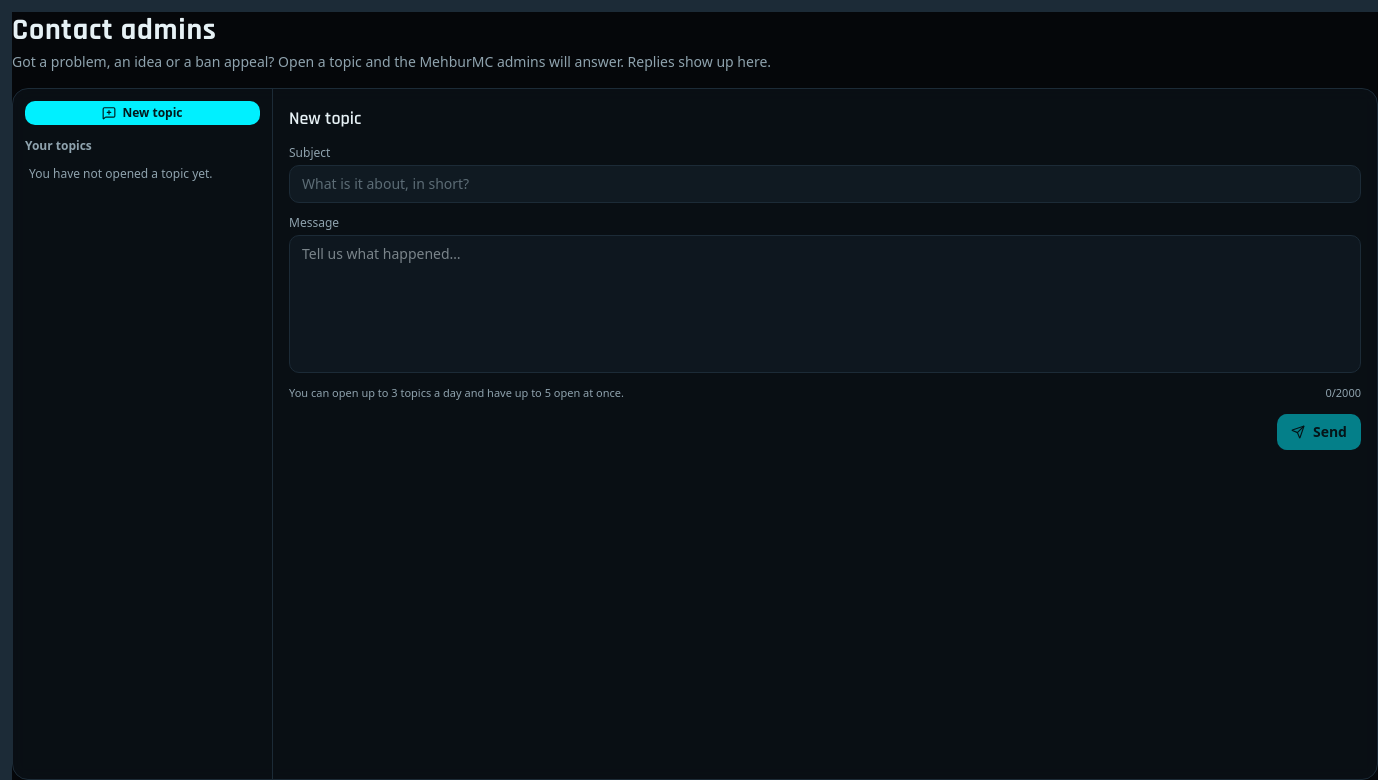
Scenario: Contact admins › shows server errors in plain words
In the field with placeholder "What is it about, in short?": (825, 184) [289,165,1361,203], type "Again"
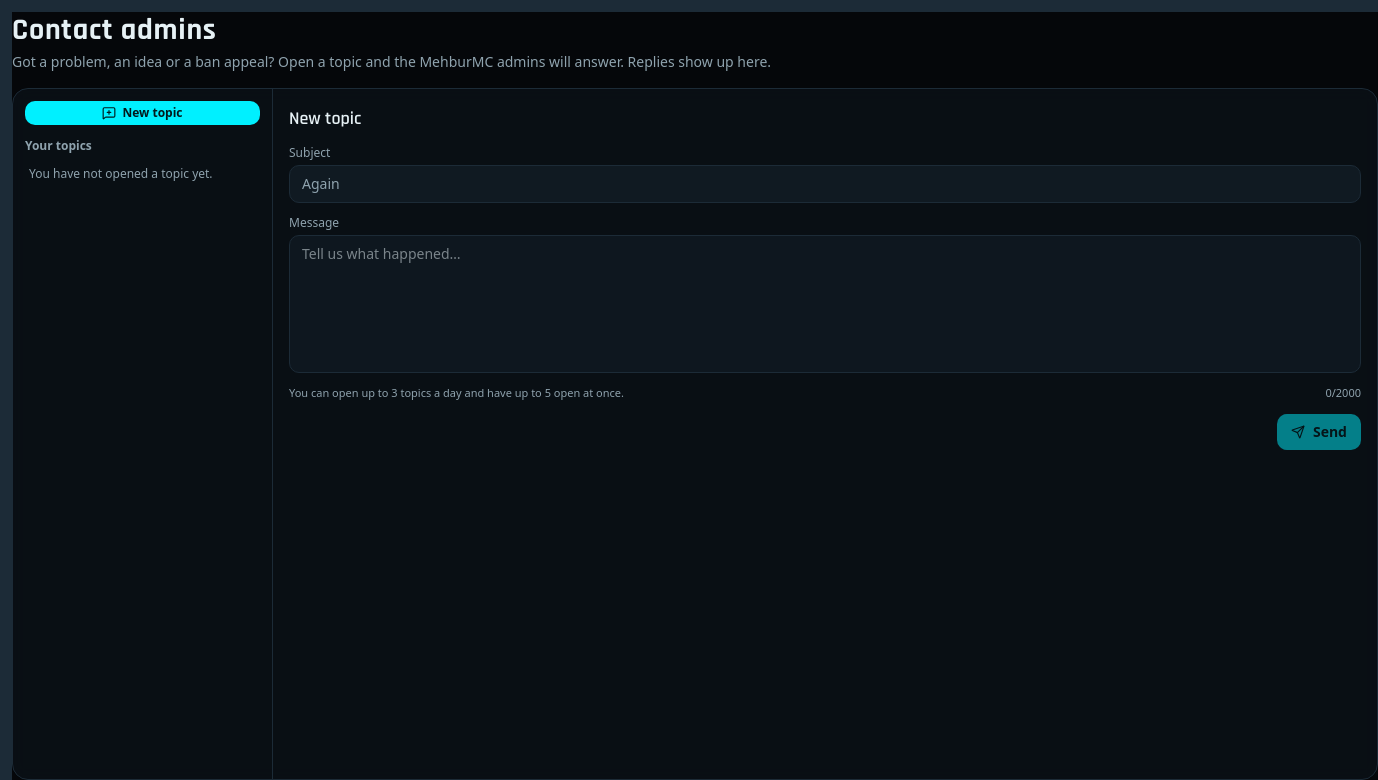
In the text box with placeholder "Tell us what happened…": (825, 304) [289,235,1361,373], type "Hello"
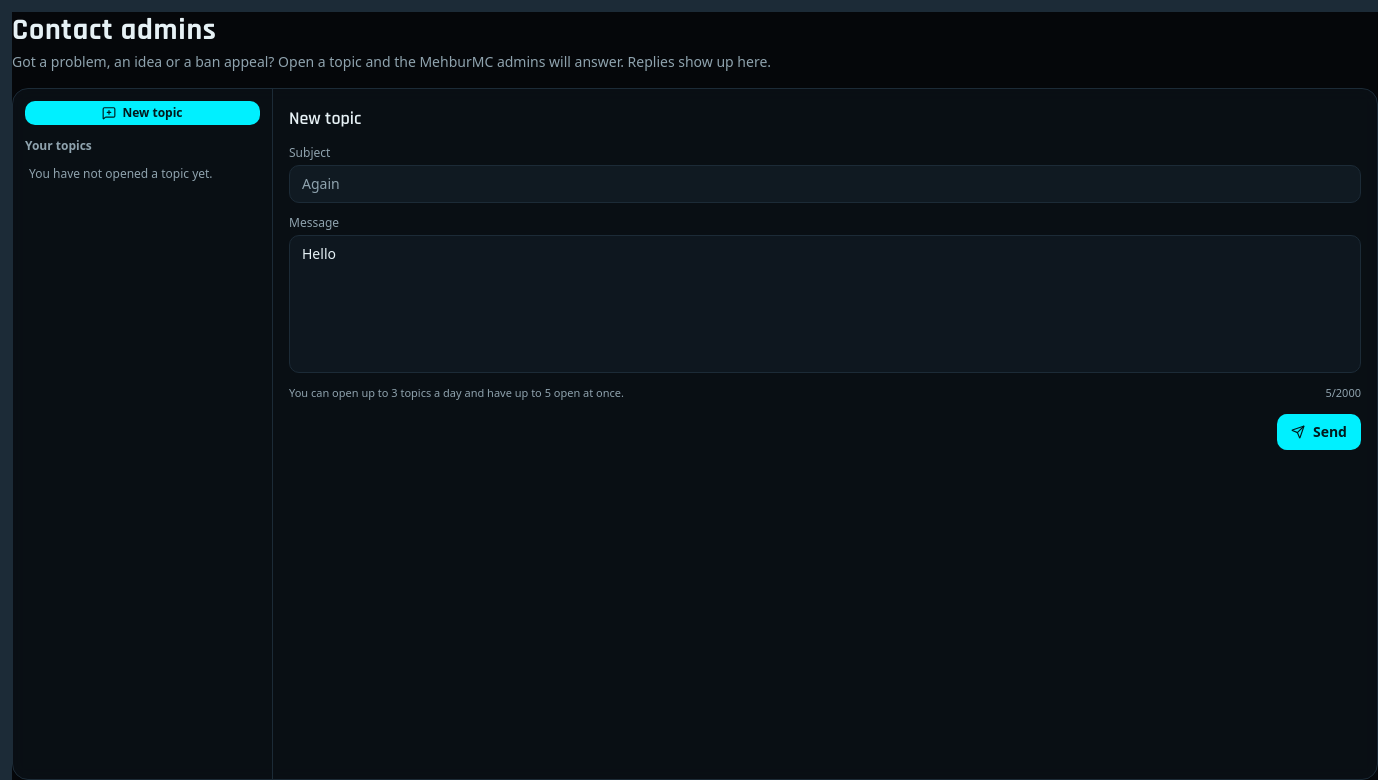
Click the button "Send": click(1319, 432) [1277,414,1361,450]
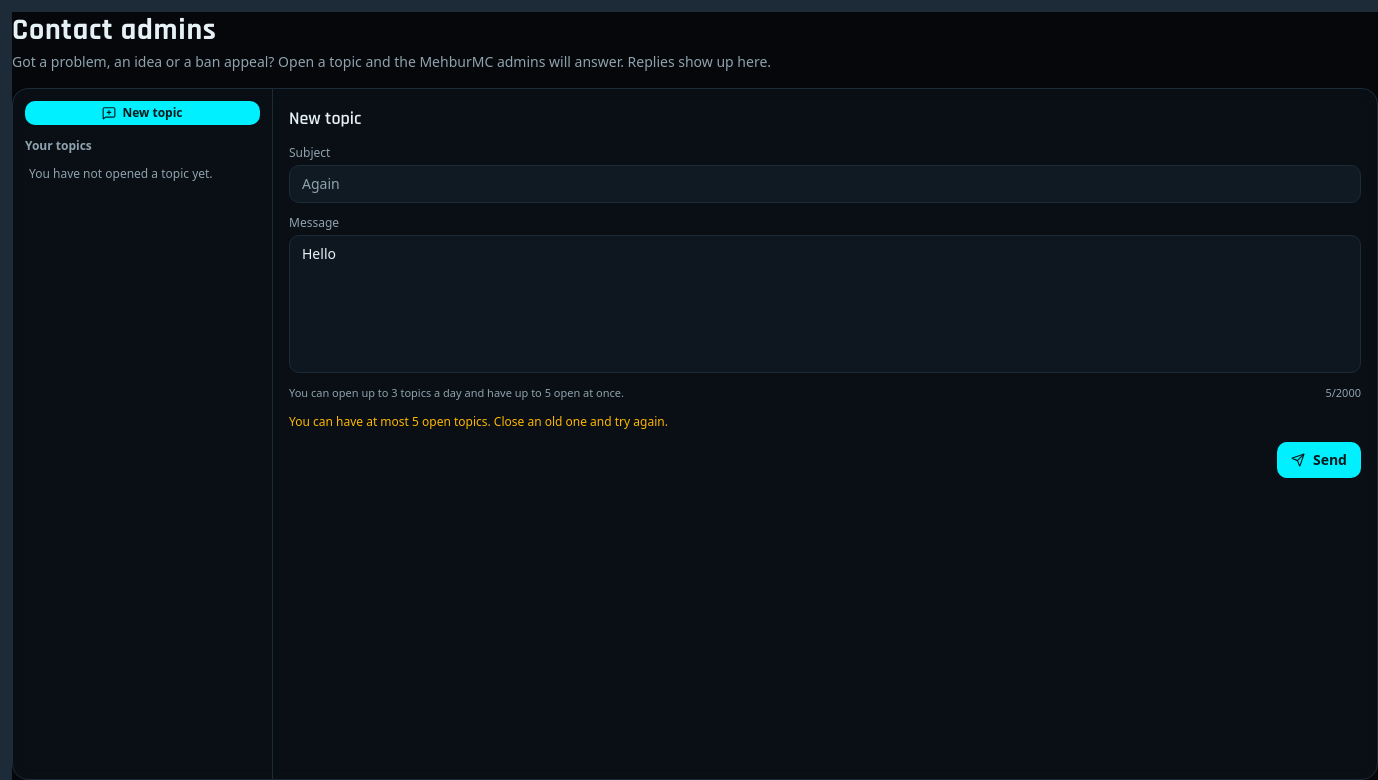
expect the text "You can have at most 5 open topics. Close an old one and try again." is shown: met, box [289,412,668,430]
